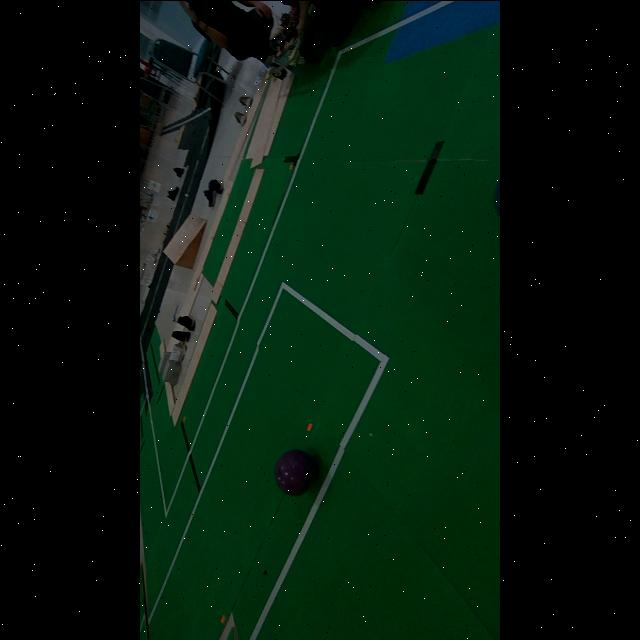B: (494, 177, 500, 216)
P: (275, 449, 316, 494)
